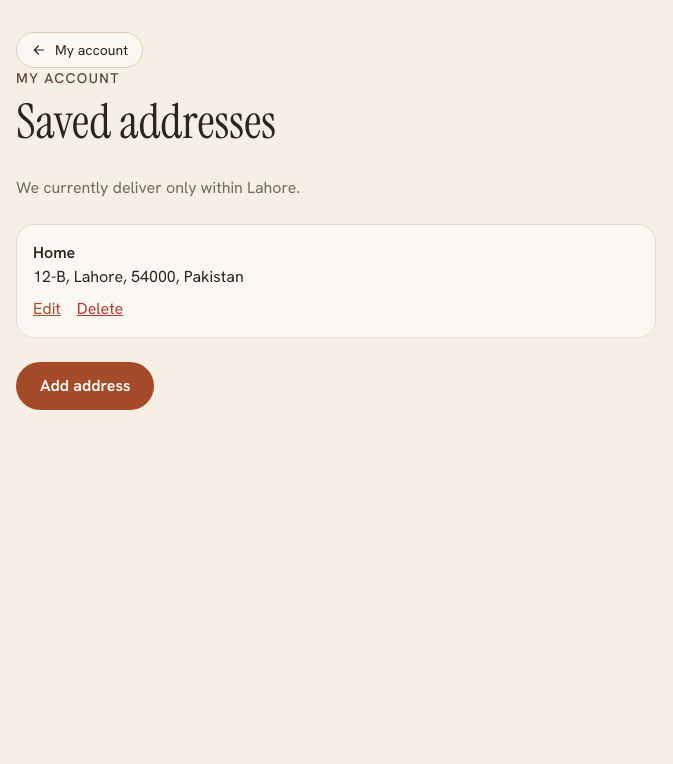
Test: edits an address
Expected: the text "Home" is shown, [33,242,75,263]
Step 1. Click the button "Edit" → (47, 309), box [33,297,61,321]
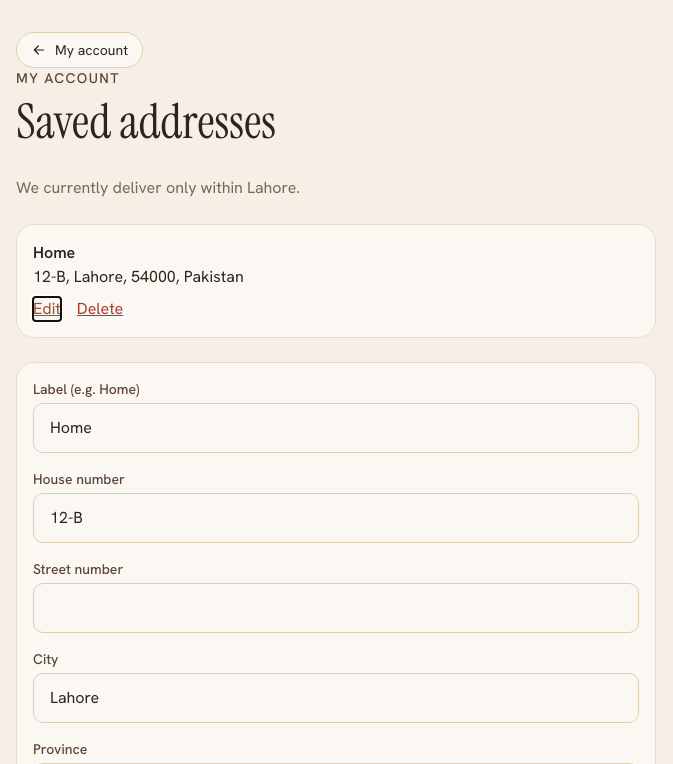
Step 2. Type "St 4" into the field labelled "Street number" → (336, 608), box [33,583,639,633]
(page scrolled)
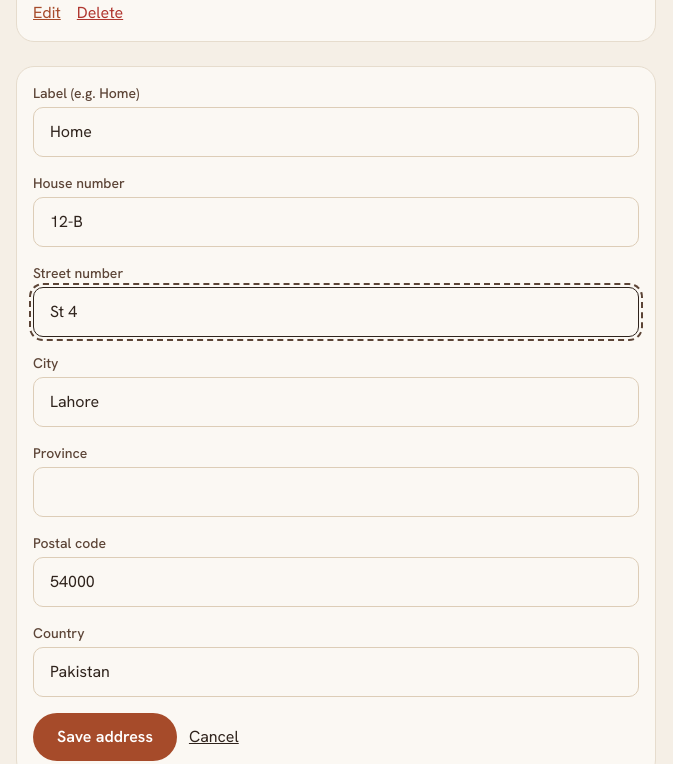
Step 3. Click the button "Save address" → (105, 737), box [33,713,177,761]
(page scrolled)
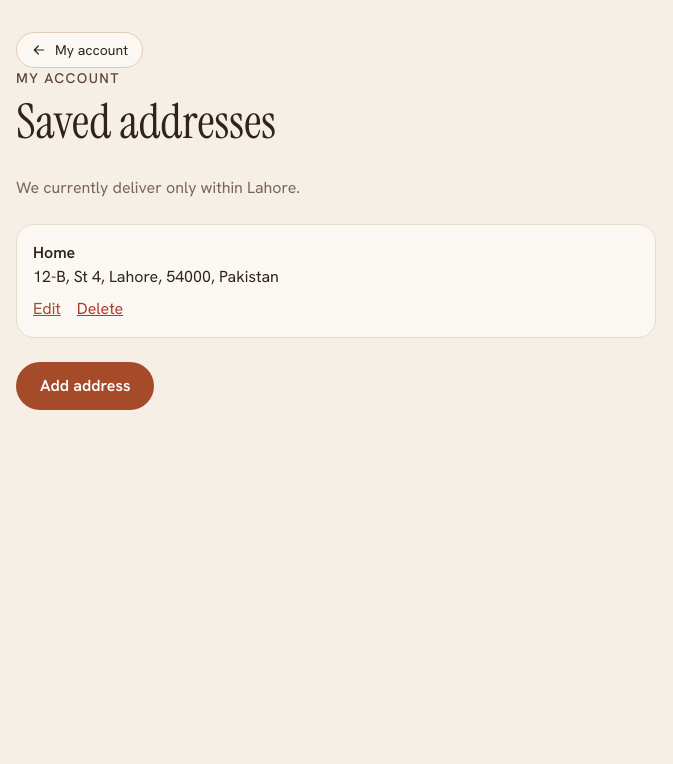
Now the text "12-B, St 4, Lahore, 54000, Pakistan" is shown, box [33,266,279,287]
